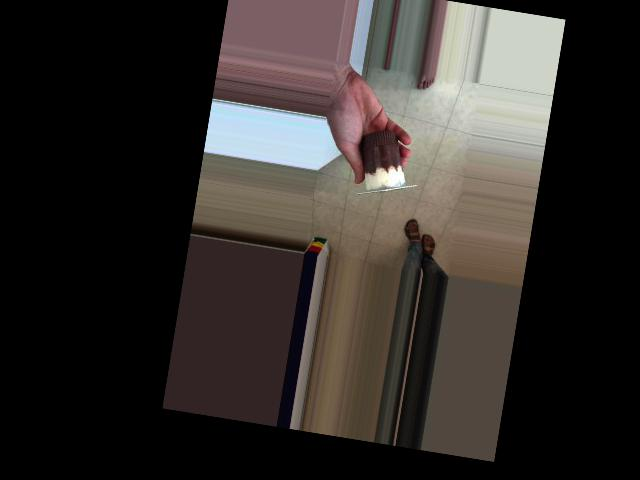milky: (349, 120, 421, 203)
